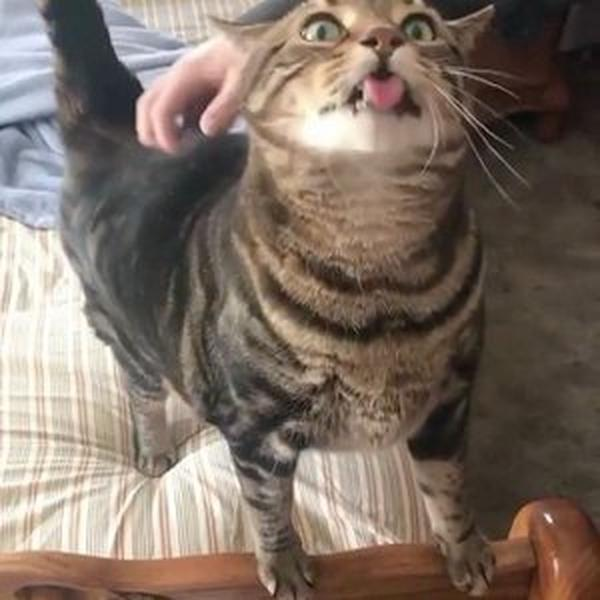michi: (23, 4, 513, 582)
